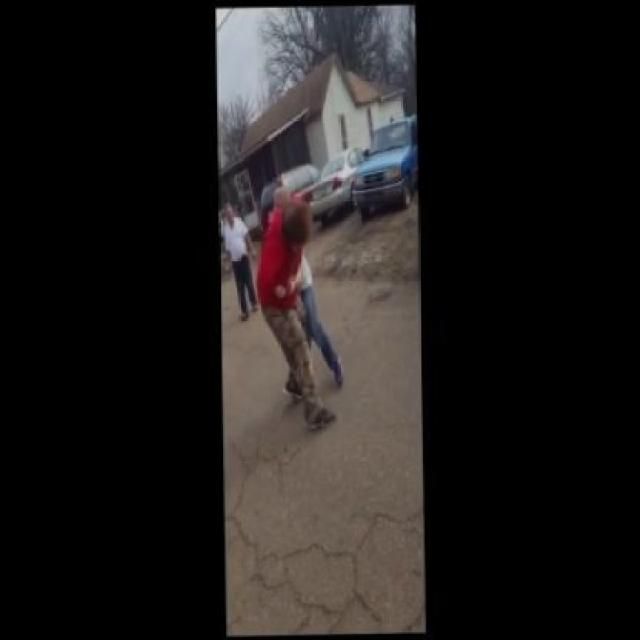fight: (240, 169, 352, 437)
non-fight: (210, 198, 268, 322)
